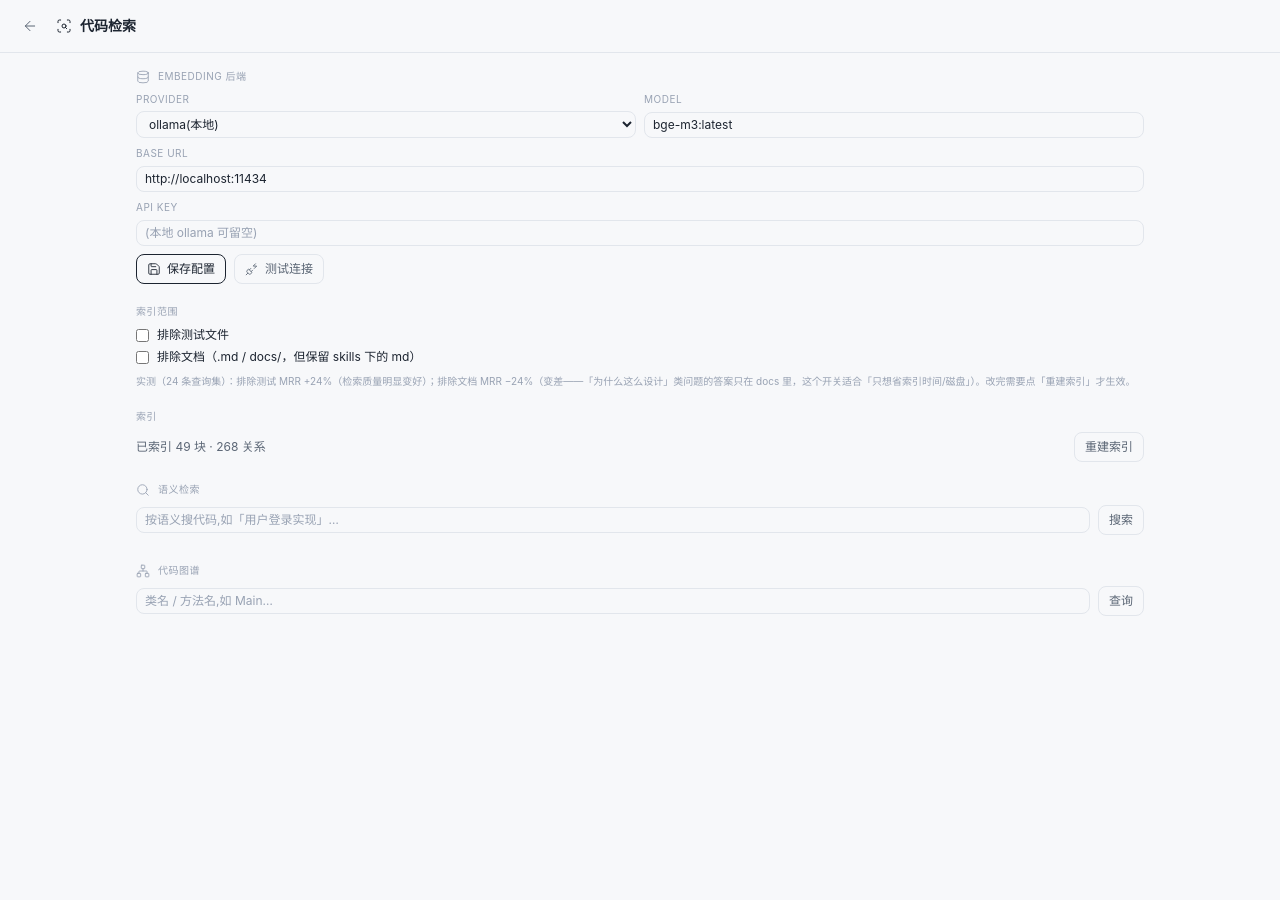
Test case: RagPanel 一跳邻域图 › 没有关系时不画空图,给一句人话
In the field with placeholder "类名 / 方法名,如 Main…": point(613, 601) [136,588,1090,614], type "Nope"
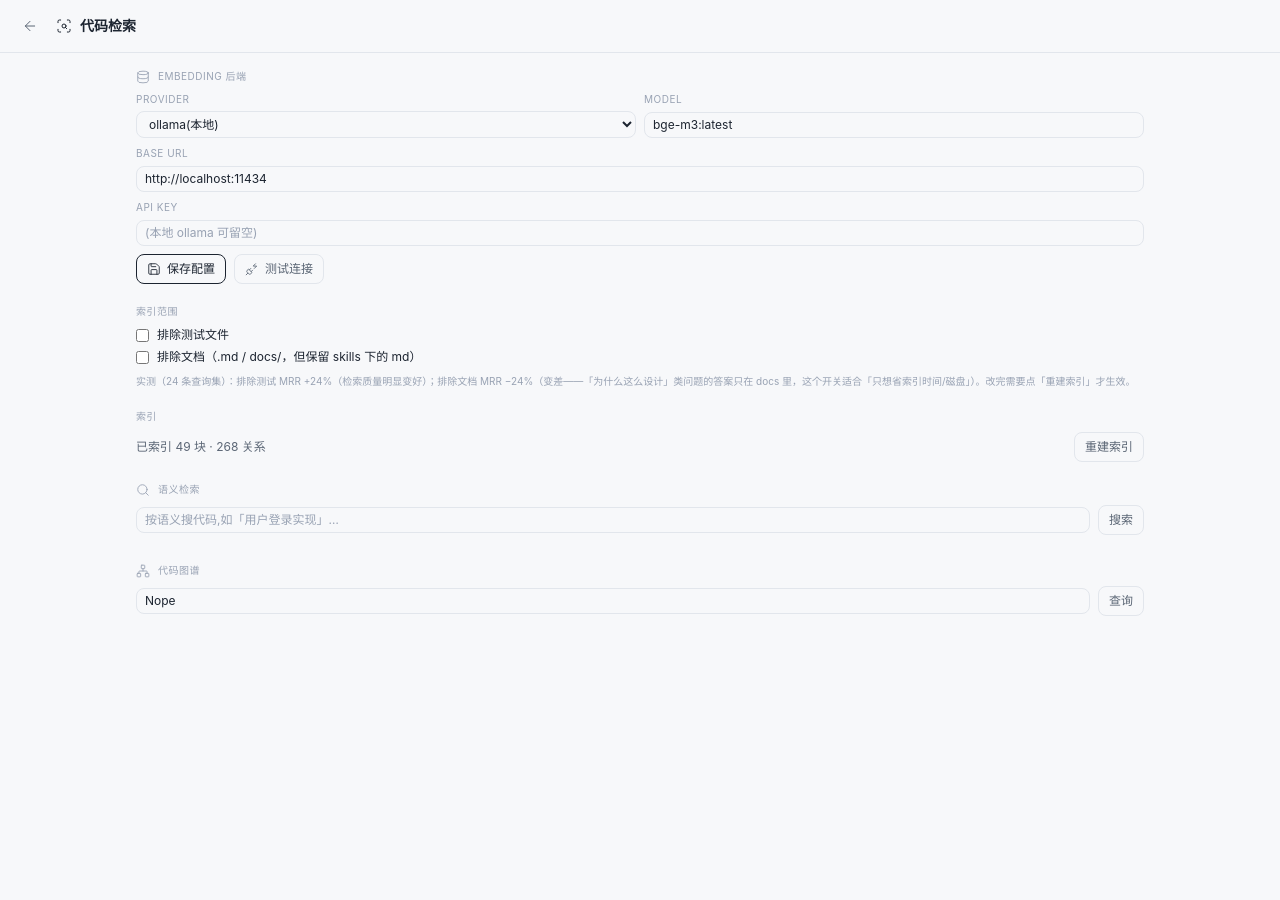
Click the button "查询": point(1121, 601) [1098,586,1144,616]
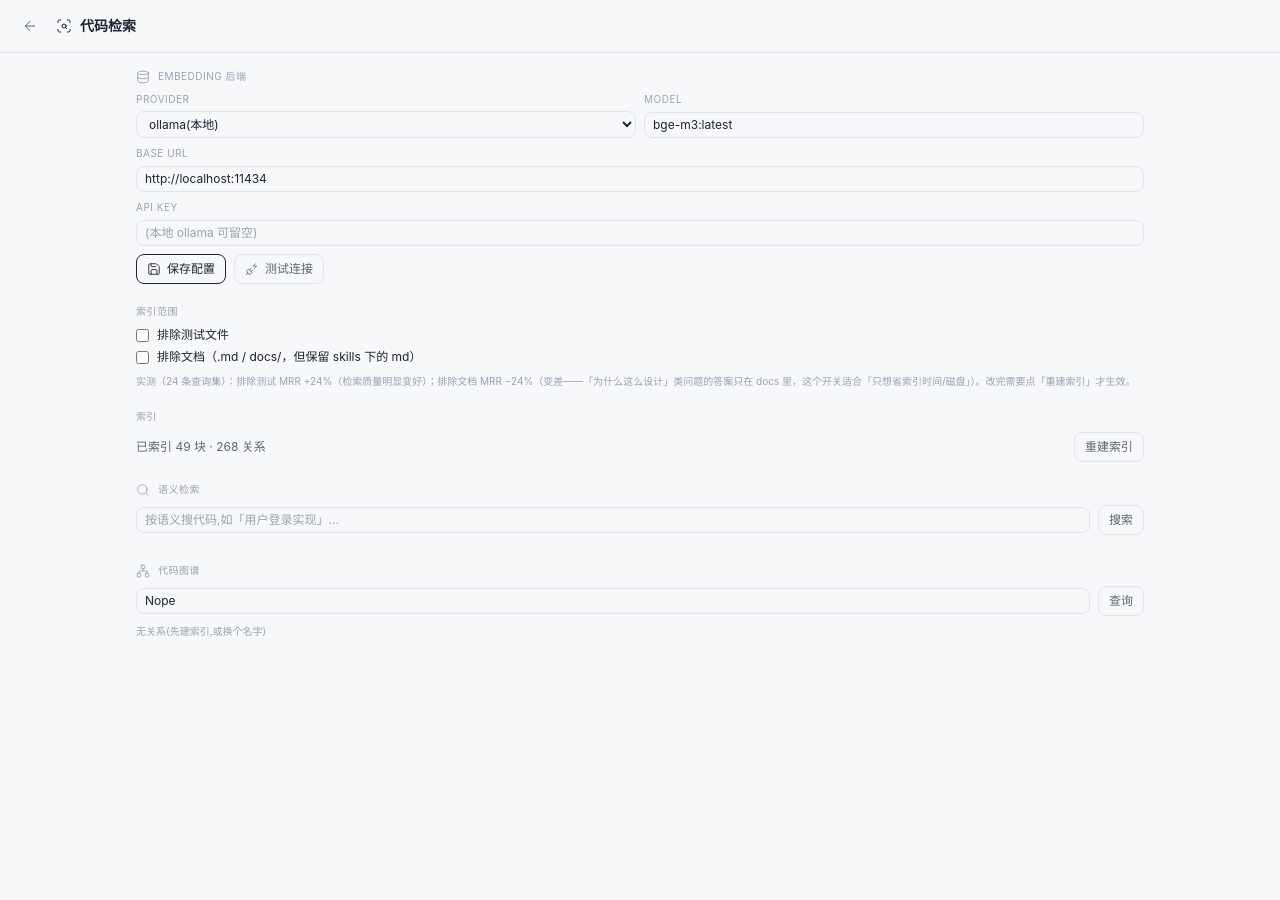
Check: the text "无关系(先建索引,或换个名字)" is shown, box [136,625,266,637]
